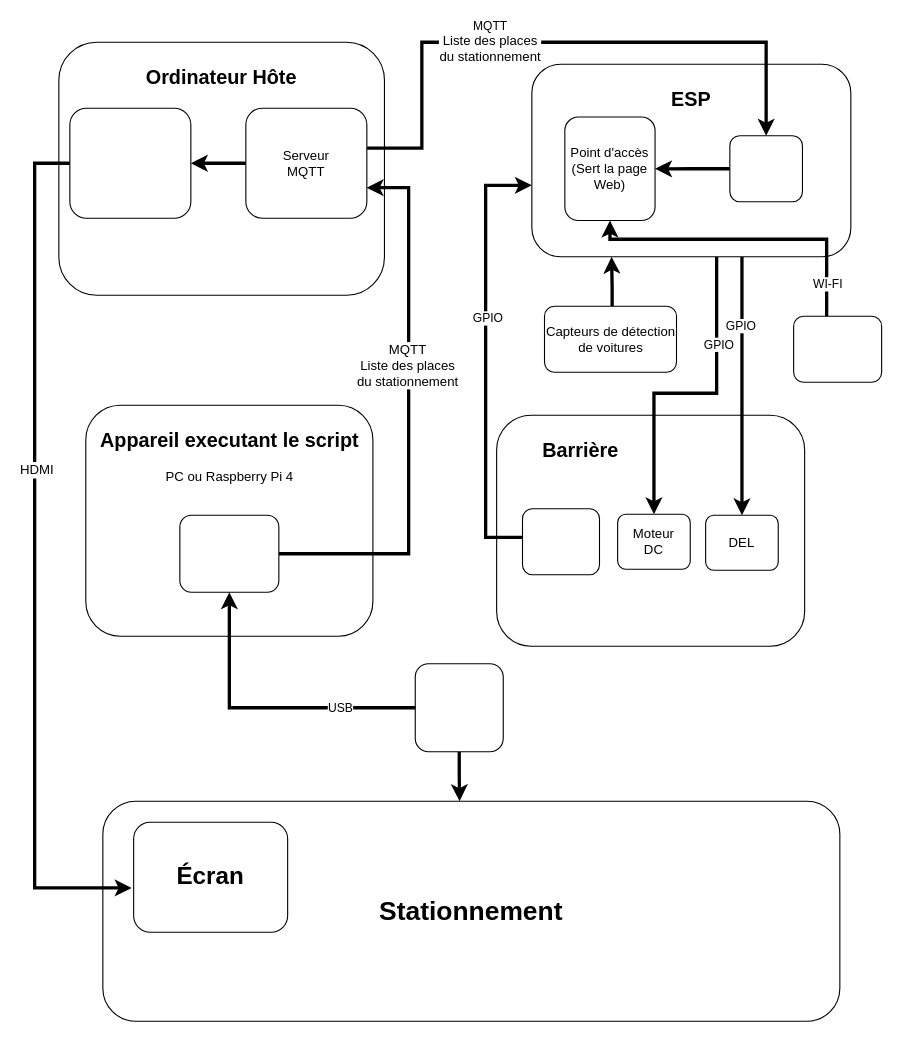
Some shapes in this 901 by 1041 pixel diagram are drawn without their labels. The centre of each missing label's shape, as x and y in pixels:
"Caméra" goes at [458,707].
"Capteurs de position pour la barrière" goes at [560,541].
"Page Web" goes at [765,168].
"Script de détection des stationnements" goes at [229,553].
"Serveur Web (Sert la page Web)" goes at [130,162].
"Téléphone Utilisateur" goes at [837,348].
